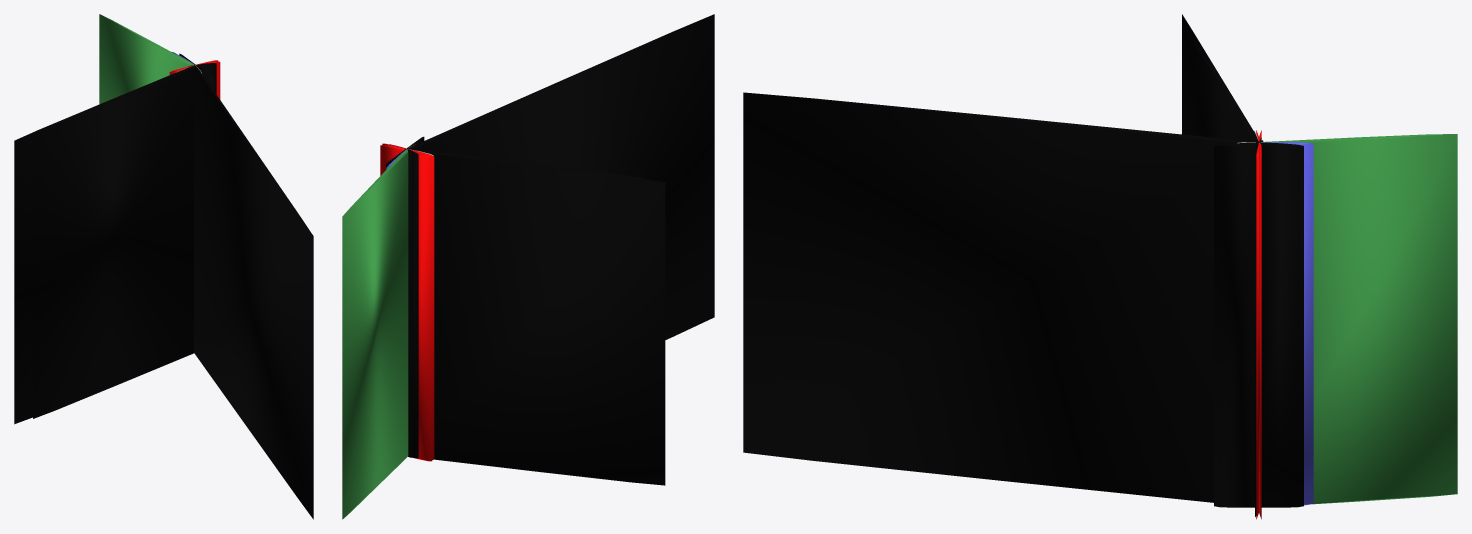
The picture shows the model from 3 angles, left to right: view 1: azimuth 30°, elevation 25°; view 2: azimuth 150°, elevation 25°; view 3: azimuth 270°, elevation 25°; orthographic projection. The views are drawn at different scales.
Visible parts, largest first — view 1: Curve; view 2: Curve; view 3: Curve.
Part boxes in pixels (bbox=[...]): Curve: bbox=[14, 14, 313, 519]; Curve: bbox=[342, 14, 714, 519]; Curve: bbox=[743, 14, 1457, 519].
Size of the model in its own units: 0.2606 by 0.304 by 0.5394.
